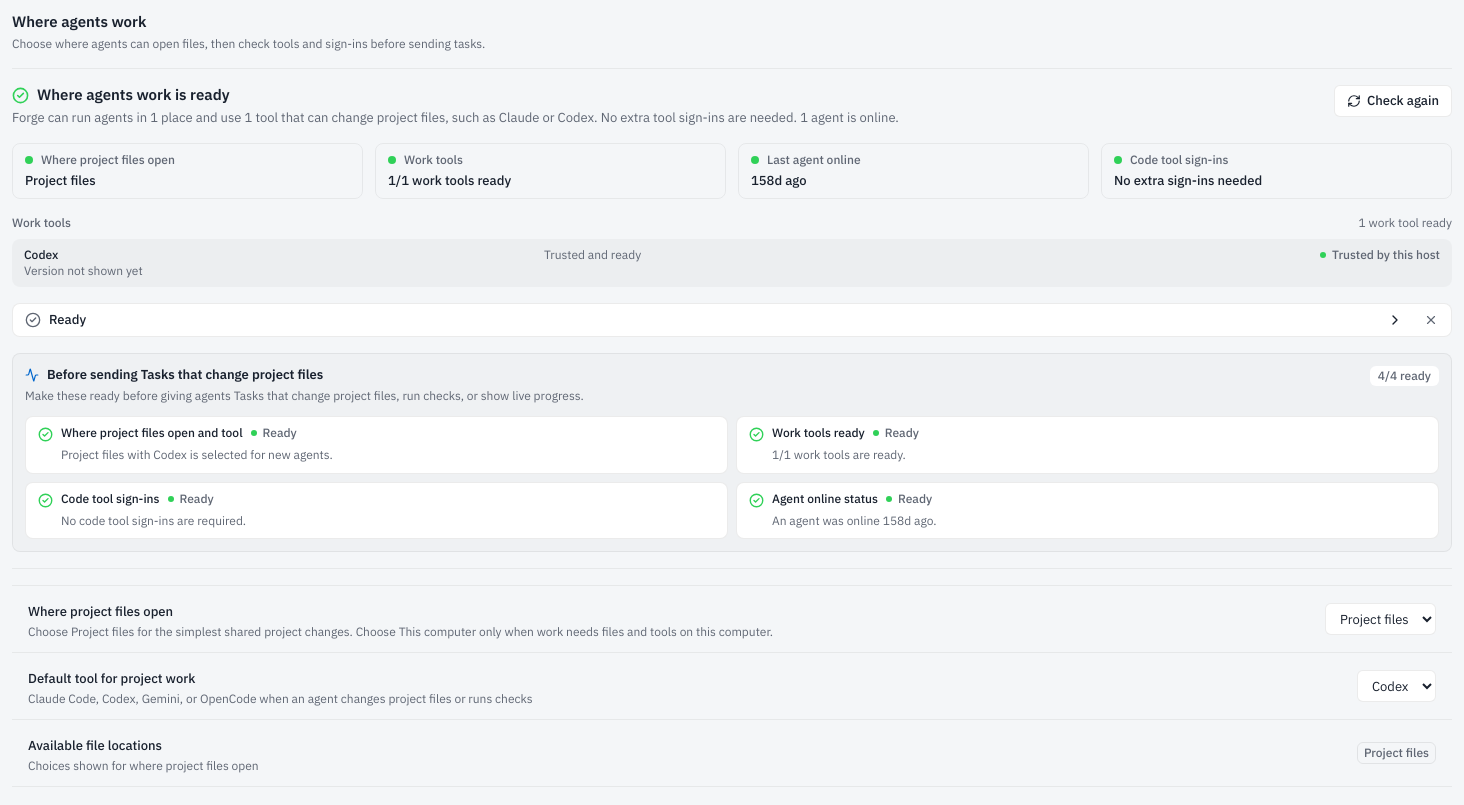
Test: RuntimeSection › treats installed work tools without a shown version as ready
Expected: the button "4/4 ready" is shown, [1370, 366, 1439, 386]
Step 1. Click the button "Ready" → [68, 320], box [13, 304, 1415, 336]
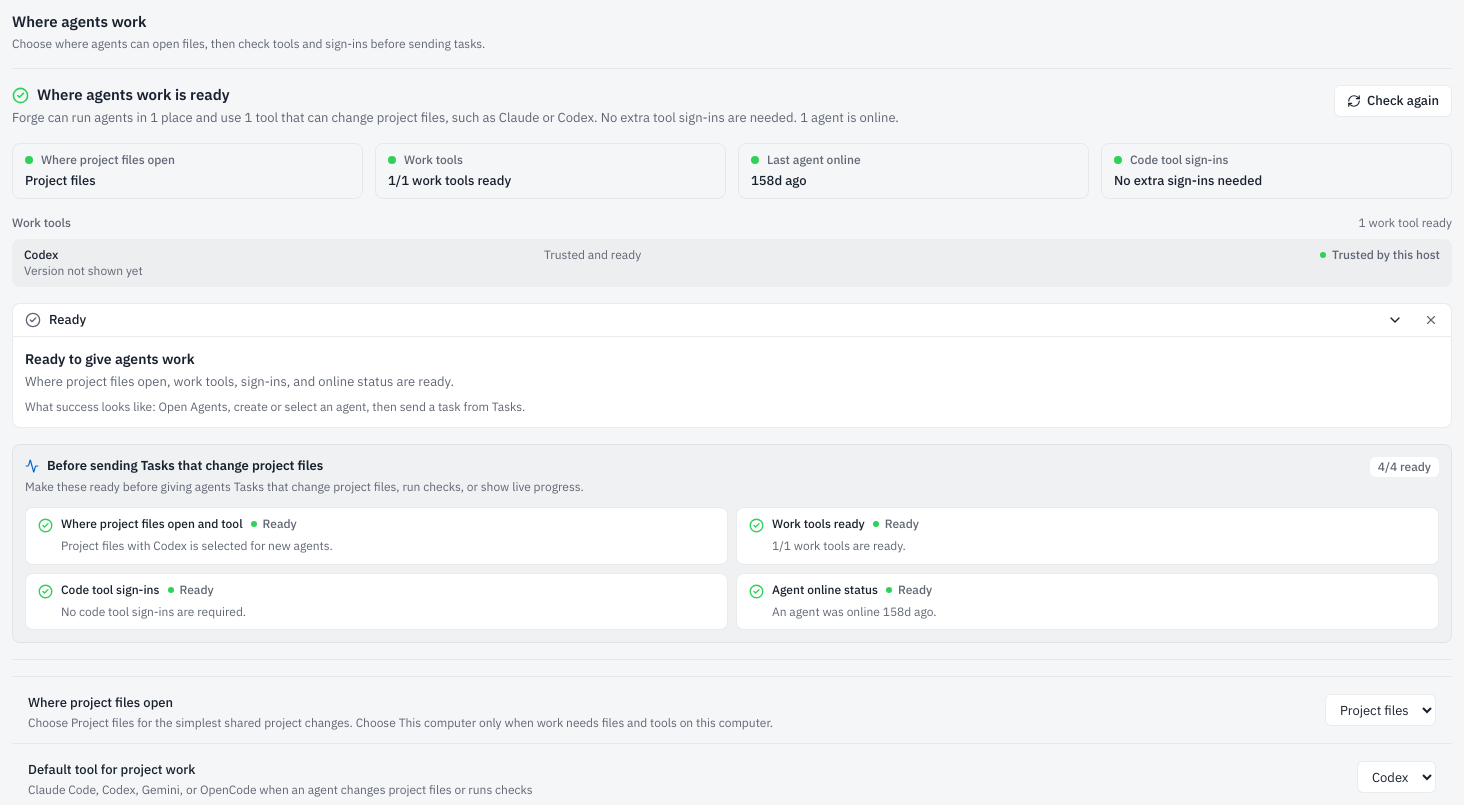
Expected: the text "1/1 work tools ready" is shown, [388, 172, 511, 189]
Expected: the button "Ready" is expanded, [13, 304, 1415, 336]
Expected: the element with test id "runtime-next-step" shows "Ready to give agents work", [25, 350, 194, 368]
